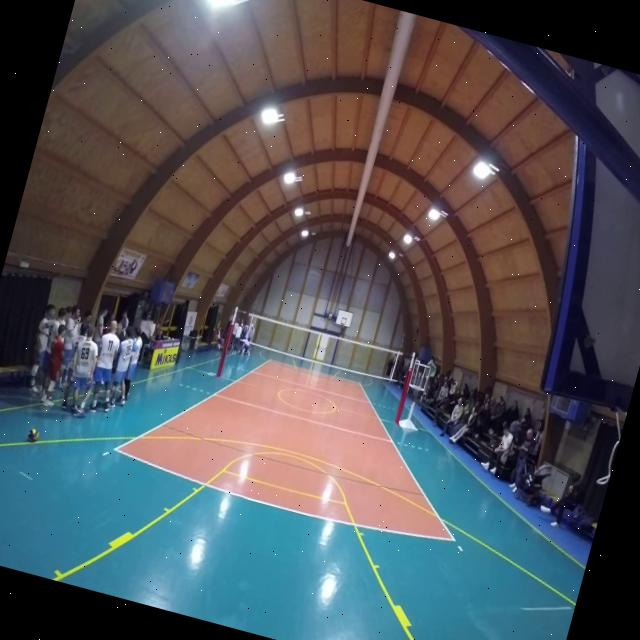Volleyball: (26, 428, 38, 444)
